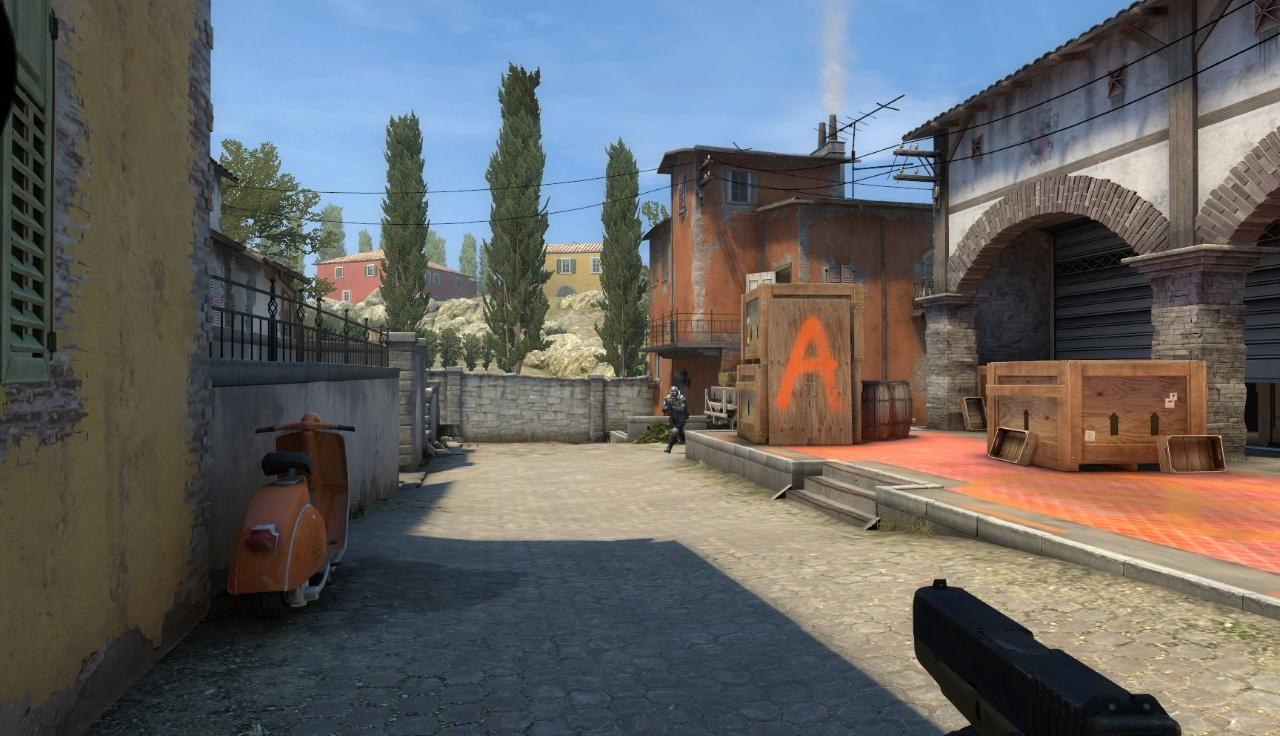ct: (667, 386, 687, 451)
cthead: (669, 386, 679, 399)
pistol: (910, 579, 1181, 736)
